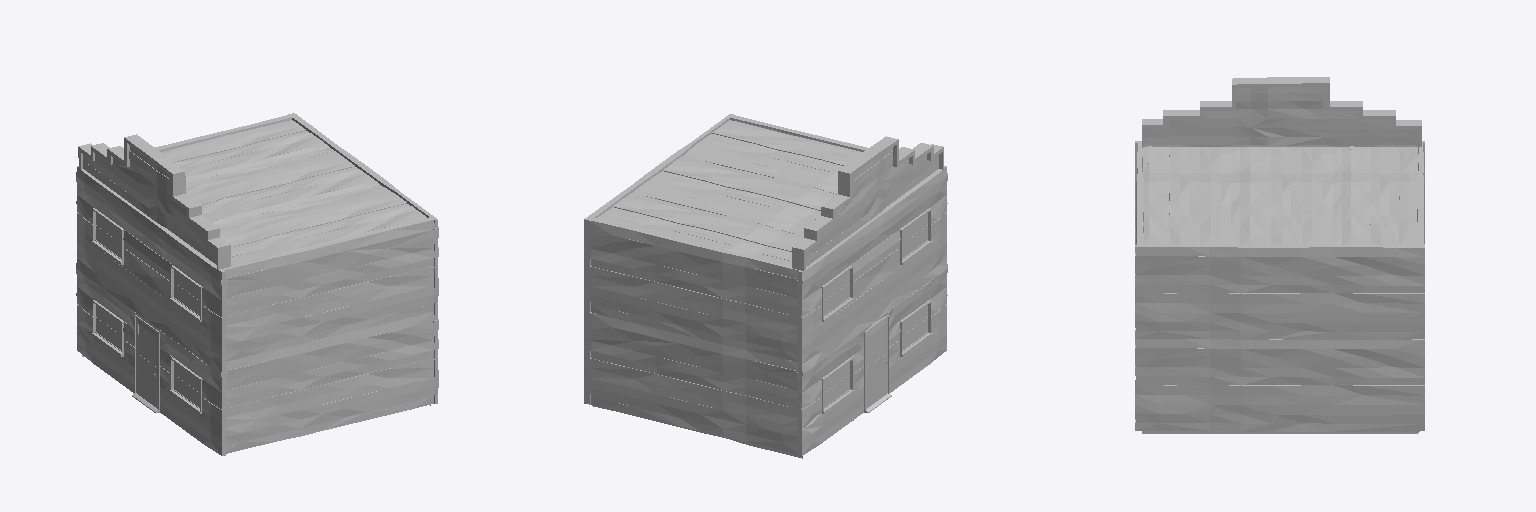
File: DrugStore_LOD1.obj
The picture shows the model from 3 angles: view 1: azimuth 30°, elevation 25°; view 2: azimuth 150°, elevation 25°; view 3: azimuth 270°, elevation 25°; orthographic projection.
Visible parts, largest first — view 1: WIldWest_DrugStore_Walls, WIldWest_DrugStore_Front, WIldWest_DrugStore_Ceiling, WIldWest_DrugStore_Window, WIldWest_DrugStore_Door; view 2: WIldWest_DrugStore_Walls, WIldWest_DrugStore_Front, WIldWest_DrugStore_Ceiling, WIldWest_DrugStore_Window, WIldWest_DrugStore_Door; view 3: WIldWest_DrugStore_Walls, WIldWest_DrugStore_Ceiling, WIldWest_DrugStore_Front.
Boxes of the visible parts, box(x1,y1,x2,y2) form: WIldWest_DrugStore_Walls: box(155, 113, 438, 453); WIldWest_DrugStore_Front: box(76, 134, 230, 455); WIldWest_DrugStore_Ceiling: box(82, 120, 430, 405); WIldWest_DrugStore_Window: box(96, 213, 199, 407); WIldWest_DrugStore_Door: box(136, 318, 157, 408); WIldWest_DrugStore_Walls: box(584, 114, 867, 453); WIldWest_DrugStore_Front: box(792, 136, 947, 455); WIldWest_DrugStore_Ceiling: box(592, 120, 862, 458); WIldWest_DrugStore_Window: box(824, 213, 927, 407); WIldWest_DrugStore_Door: box(866, 318, 887, 408); WIldWest_DrugStore_Walls: box(1135, 142, 1424, 431); WIldWest_DrugStore_Ceiling: box(1142, 146, 1418, 433); WIldWest_DrugStore_Front: box(1135, 77, 1424, 287).
Size of the model in its own units: 7.26 by 7.83 by 8.15.